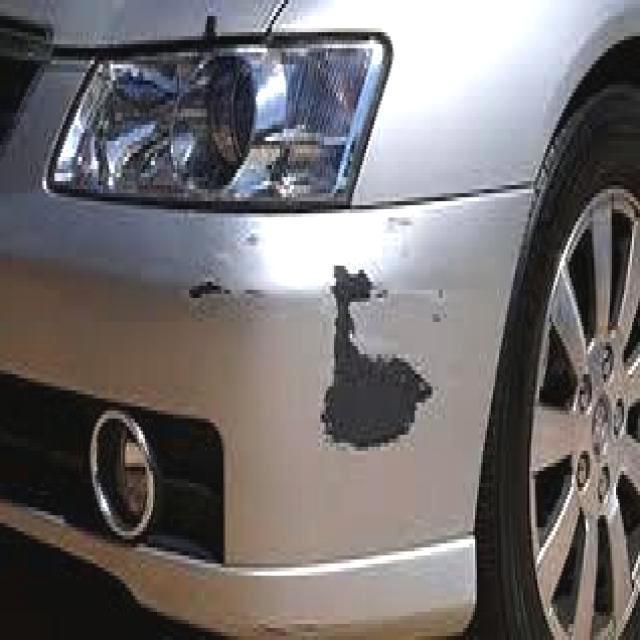minor: (216, 228, 260, 277)
moderate: (314, 252, 454, 472), (154, 277, 313, 326), (382, 213, 412, 240)
